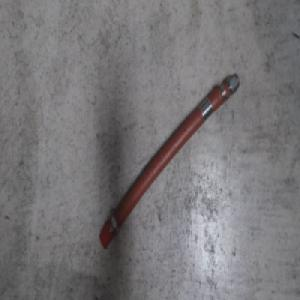Hose: (98, 70, 240, 253)
